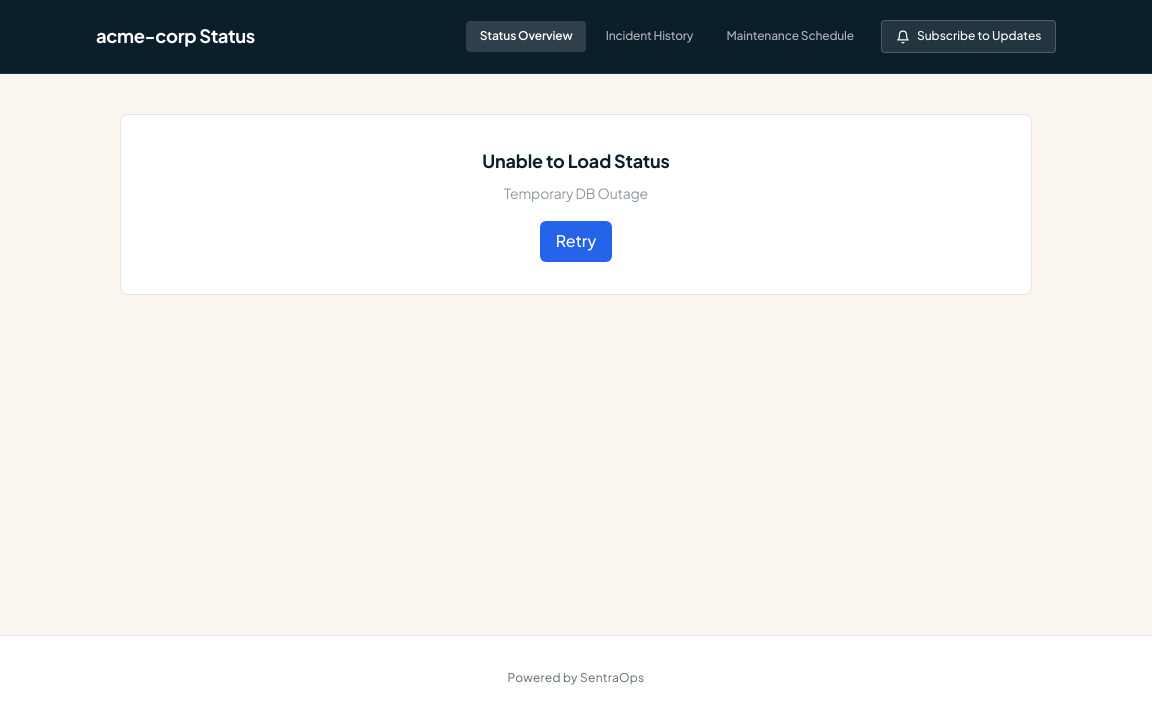
Scenario: Phase 11 — Public Status Page Integration & Compliance › Loading, 404, Retry & Document Title Lifecycle across all 3 Public Routes › handles non-404 transient API failure with Working Retry action on overview page
Check: the heading "Unable to Load Status" is shown, box [482,149,670,172]
Click the button "Retry" at (576, 241), box [540,221,612,262]
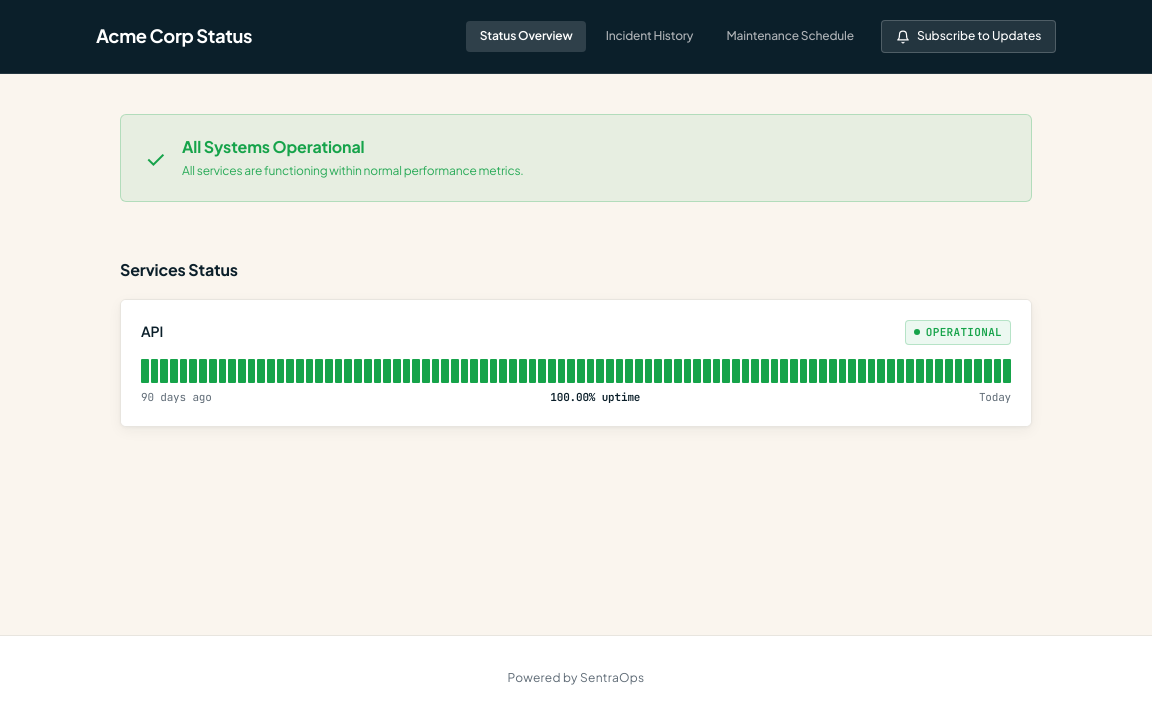
Check: the heading "All Systems Operational" is shown, box [182,136,364,157]
